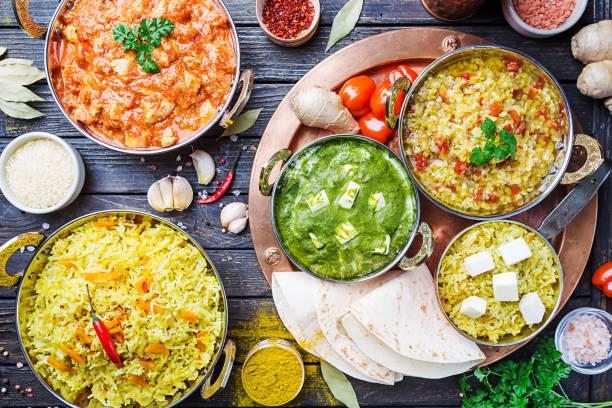Braised Crucian Carp: (15, 209, 227, 405), (396, 45, 573, 221), (47, 3, 239, 158), (267, 135, 427, 286), (435, 220, 562, 348)
